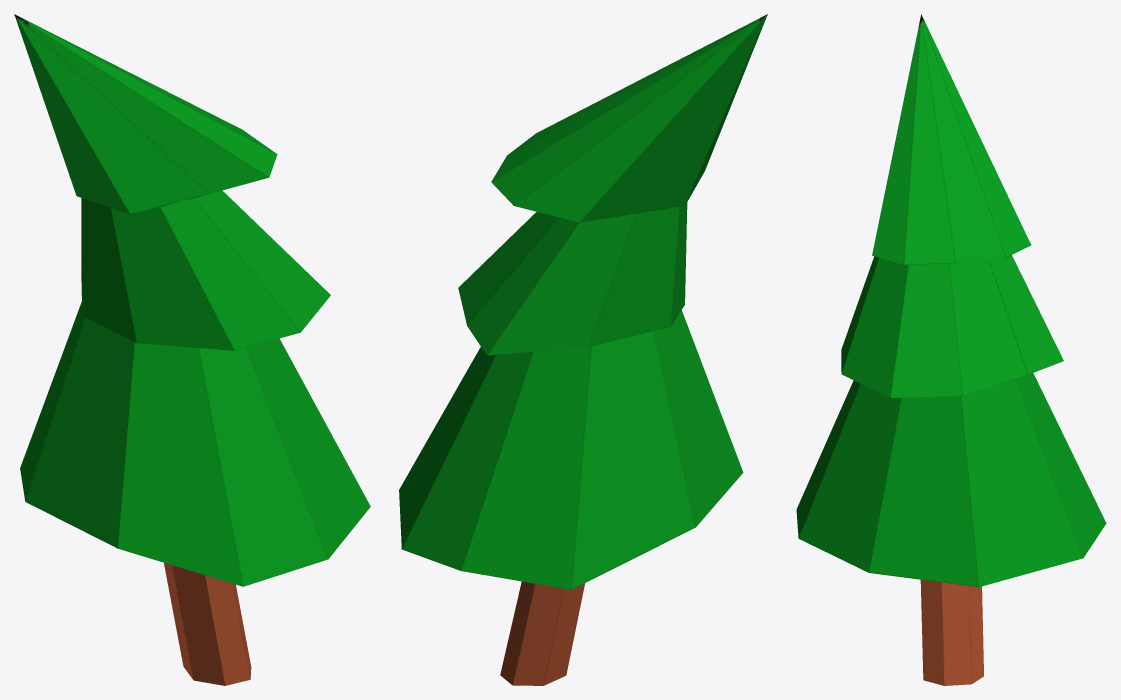
Rendered from pinetree002.fbx.
3 views of the same model, side by side, from view 1: azimuth 30°, elevation 25°; view 2: azimuth 150°, elevation 25°; view 3: azimuth 270°, elevation 25° (orthographic). The views are drawn at different scales.
Parts seen in each view (by area): view 1: Bent Pinetree; view 2: Bent Pinetree; view 3: Bent Pinetree.
Part boxes in pixels (bbox=[...]): Bent Pinetree: bbox=[14, 14, 370, 685]; Bent Pinetree: bbox=[399, 14, 767, 685]; Bent Pinetree: bbox=[796, 14, 1106, 685].
Bounding box in the file's own units: 702 × 1400 × 684.
